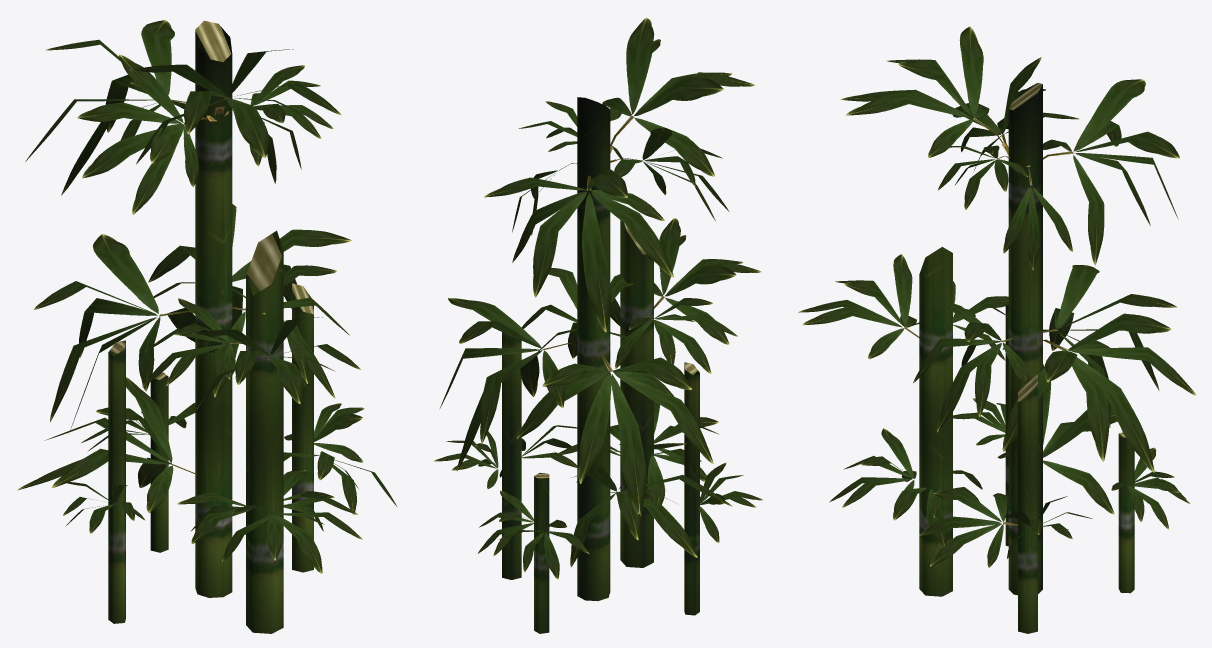
File: bamboo.obj
3 renders of one model, left to right at view 1: azimuth 30°, elevation 25°; view 2: azimuth 150°, elevation 25°; view 3: azimuth 270°, elevation 25°, orthographic. The views are drawn at different scales.
Parts seen in each view (by area): view 1: Bamboo_cross; view 2: Bamboo_cross; view 3: Bamboo_cross.
Part boxes in pixels (x1,y1,x2,y2): Bamboo_cross: (17, 20, 397, 633); Bamboo_cross: (434, 17, 762, 633); Bamboo_cross: (798, 26, 1196, 633).
Size of the model in its own units: 30.19 by 51.66 by 35.34.
1 material, 1 textured.
